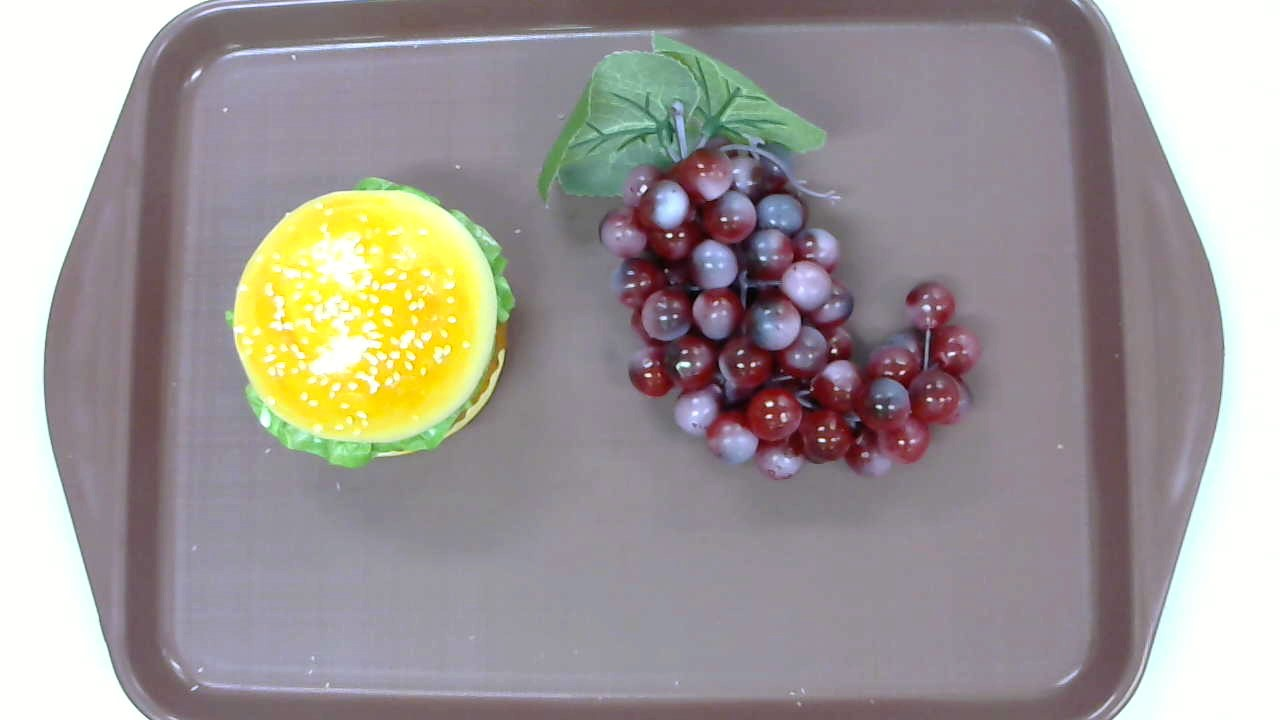grape: (538, 29, 981, 480)
hamburger: (226, 176, 516, 470)
